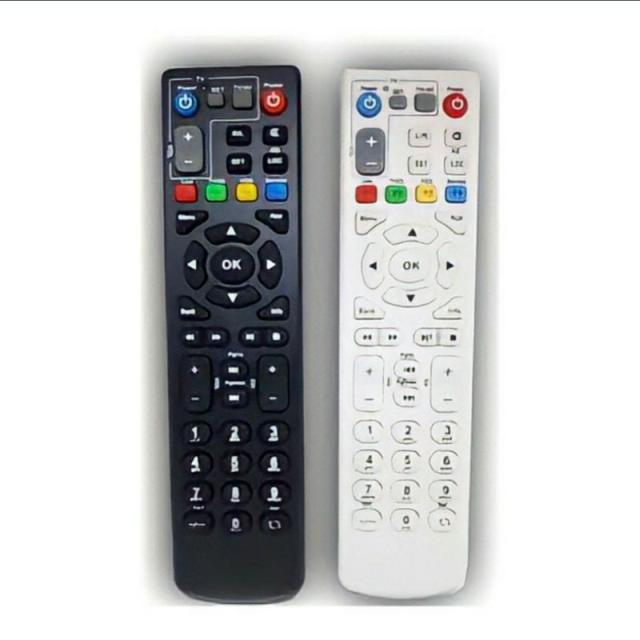remote: (162, 62, 310, 600), (338, 70, 478, 600)
